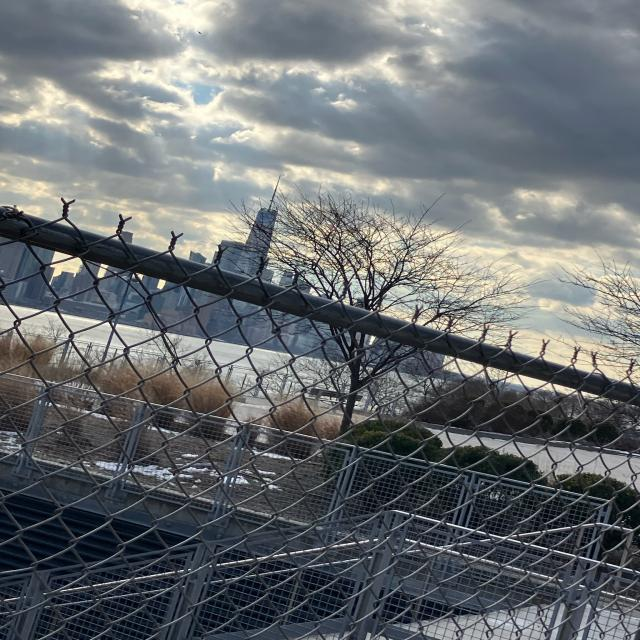WTC: (238, 175, 288, 270)
